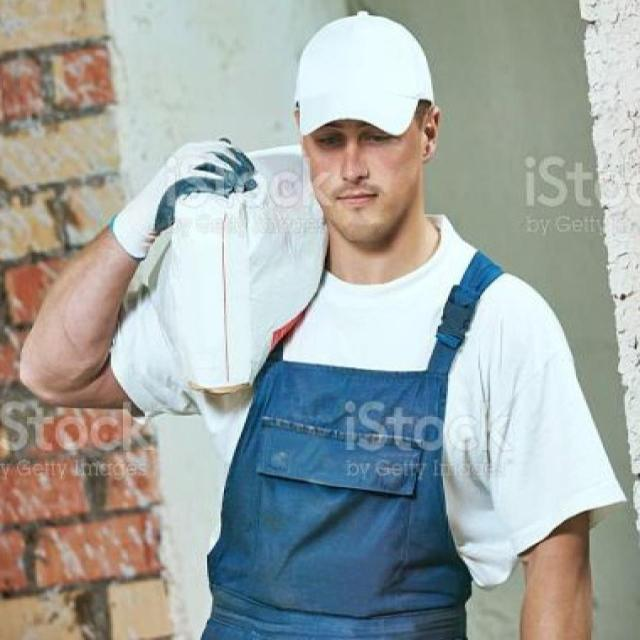Helmet: (179, 217, 543, 640), (261, 0, 482, 172)
